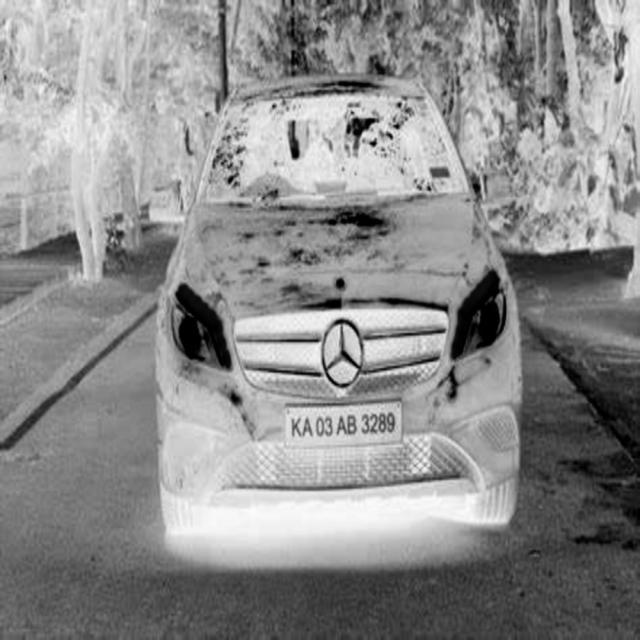Non_registered: (280, 406, 403, 449)
